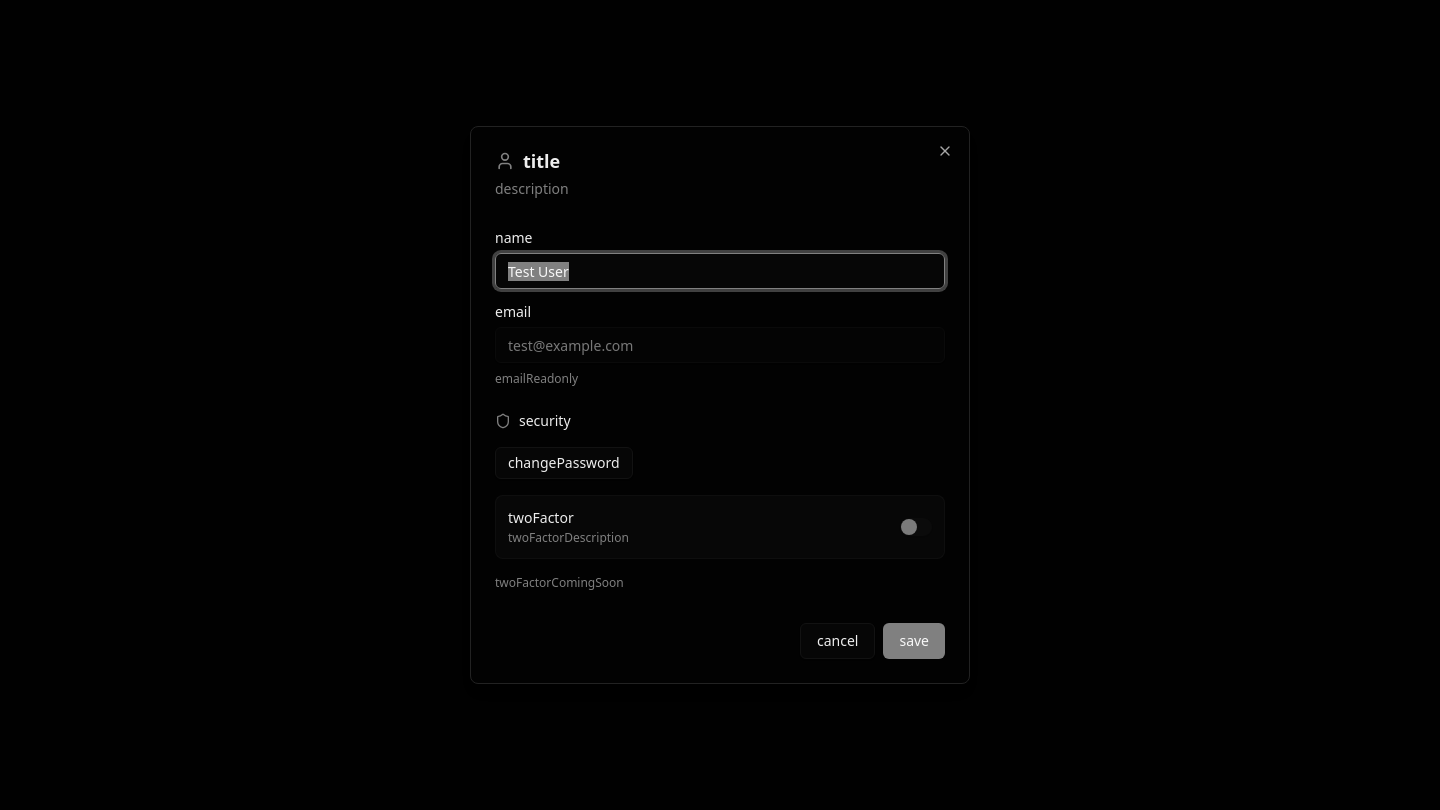
Test: ProfileDialog › should cancel password change
Click the button "changePassword".
click(564, 463)  # box x1=495 y1=447 x2=633 y2=479
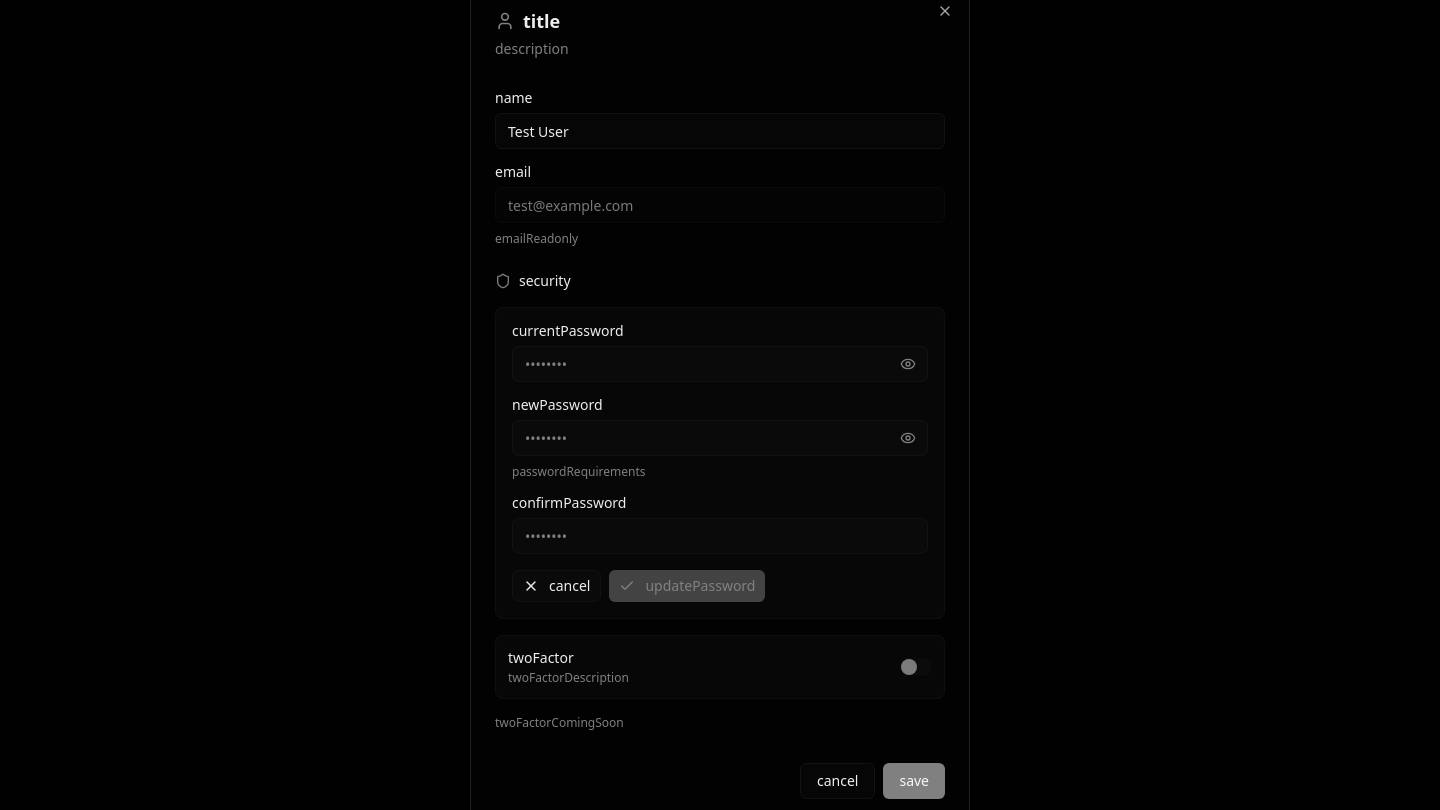
// The first cancel button is in the password change section
Click the button "cancel" below "confirmPassword".
click(557, 586)  # box x1=512 y1=570 x2=602 y2=602
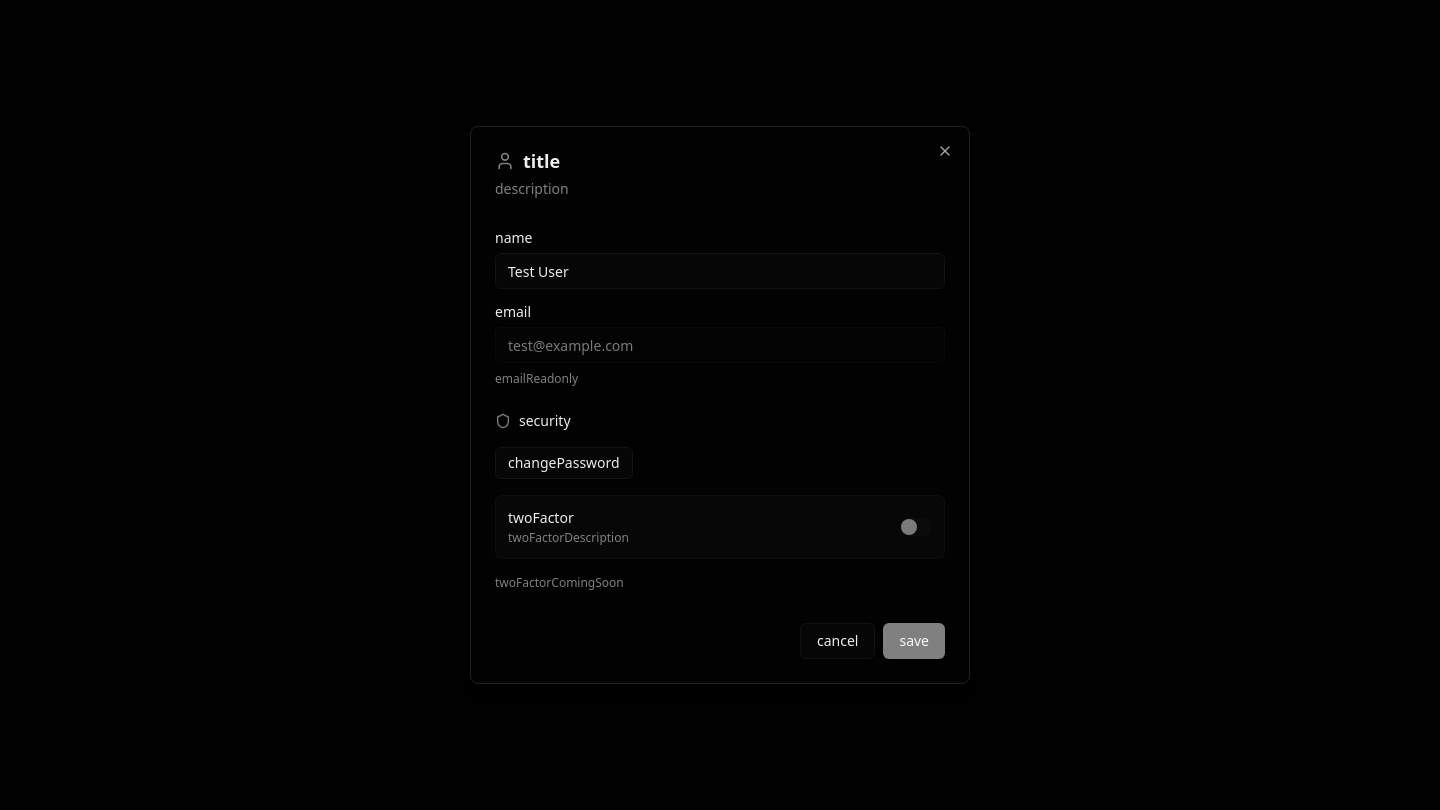
Result: the text "currentPassword" is gone
